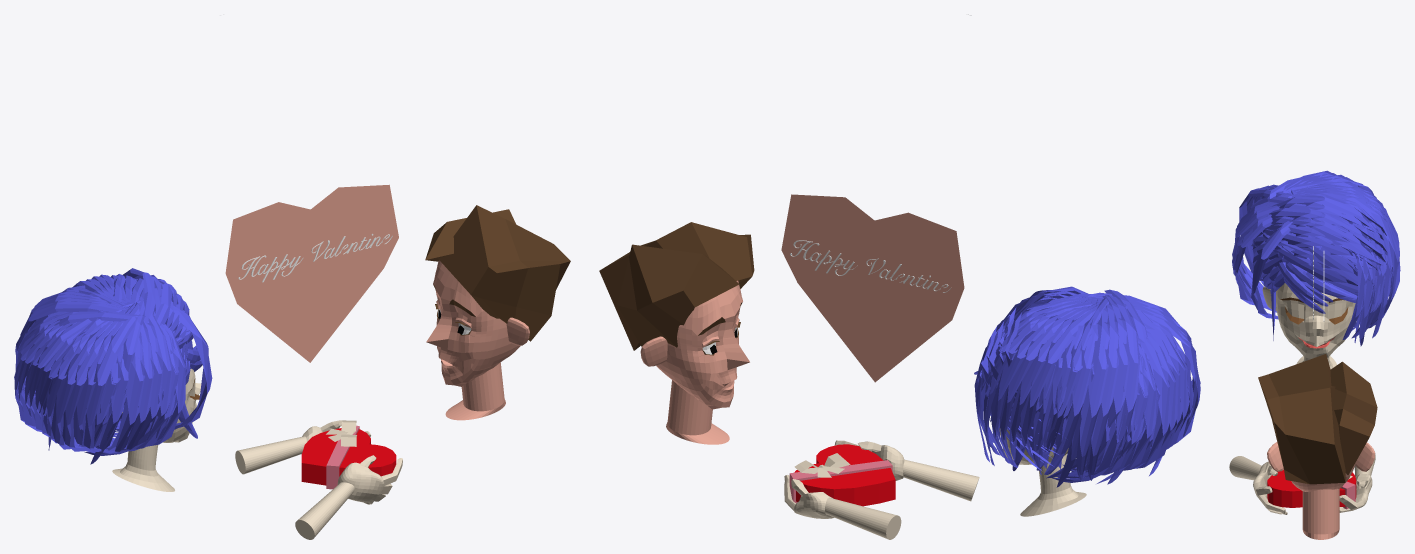
Rendered from asset.glb.
3 renders of one model, left to right at view 1: azimuth 30°, elevation 25°; view 2: azimuth 150°, elevation 25°; view 3: azimuth 270°, elevation 25°, orthographic. The views are drawn at different scales.
Parts seen in each view (by area): view 1: 円柱, Curve.016; view 2: 円柱, Curve.016; view 3: 円柱.
Boxes of the visible parts, <box> form: 円柱: <box>14,205,570,539</box>; Curve.016: <box>225,184,398,362</box>; 円柱: <box>599,222,1200,539</box>; Curve.016: <box>781,194,964,382</box>; 円柱: <box>1229,170,1400,539</box>.
Bounding box in the file's own units: 7.22 × 6.41 × 2.24.
